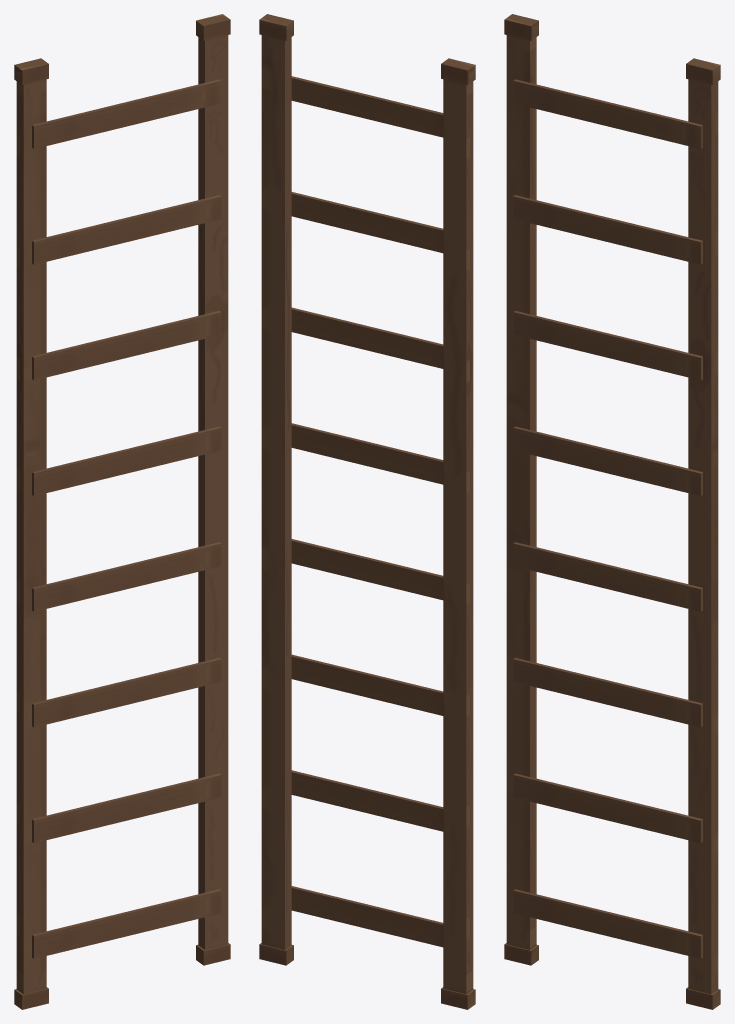
The model's file is Escada.fbx.
The picture shows the model from 3 angles, left to right: view 1: azimuth 30°, elevation 25°; view 2: azimuth 150°, elevation 25°; view 3: azimuth 330°, elevation 25°; orthographic projection.
Parts seen in each view (by area): view 1: EscadaMadeiraLP; view 2: EscadaMadeiraLP; view 3: EscadaMadeiraLP.
Boxes of the visible parts, bbox=[...] form: EscadaMadeiraLP: bbox=[14, 14, 230, 1009]; EscadaMadeiraLP: bbox=[259, 14, 475, 1009]; EscadaMadeiraLP: bbox=[504, 14, 720, 1009].
Bounding box in the file's own units: 75.42 × 325 × 5.79.
